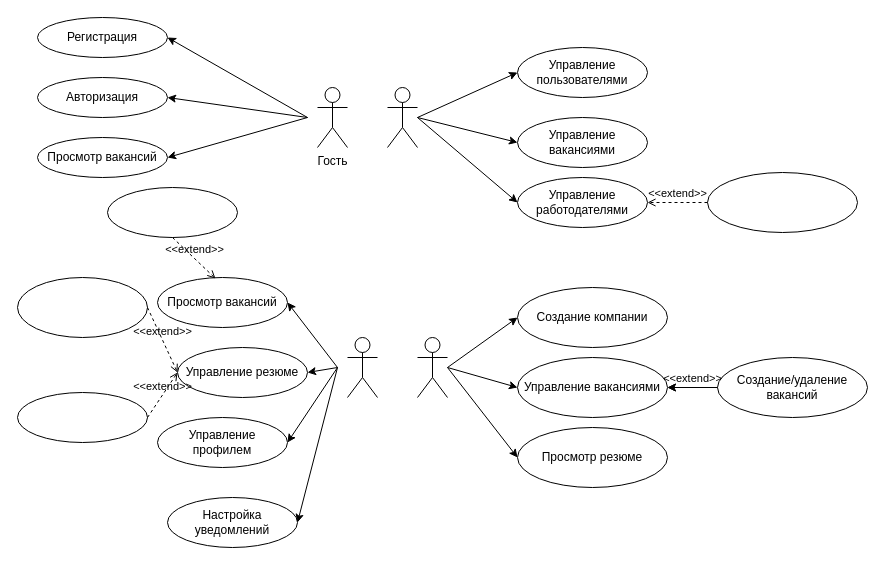
Some shapes in this 885 by 565 pixel diagram are drawn without their labels. Here are the shapes that lost their labels. From the top down, the box of each, then its label:
(386, 86, 418, 148): Администратор
(106, 186, 238, 238): Откликнуться на вакансию
(706, 172, 858, 232): Верификация работодателей
(16, 276, 148, 338): Создание/удаление резюме
(346, 336, 378, 398): Соискатель
(416, 336, 448, 398): Работодатель
(16, 392, 148, 442): Редактирование резюме
